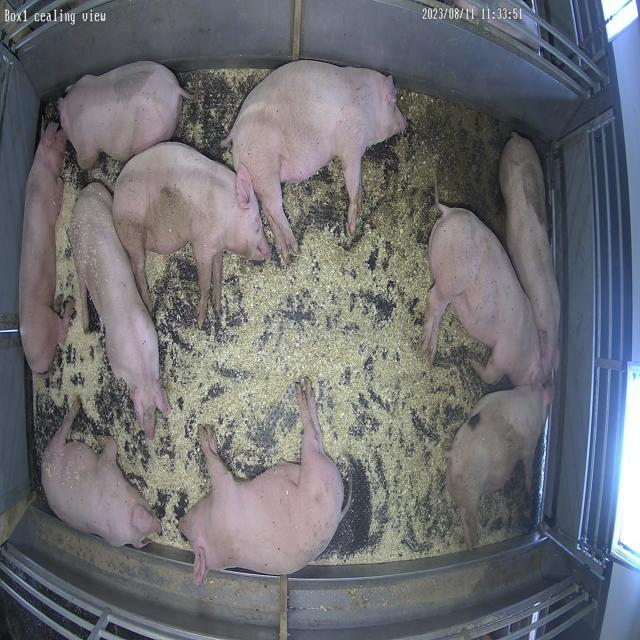Dirt: (399, 89, 512, 244)
Pig: (227, 60, 407, 260), (179, 380, 344, 586), (113, 142, 271, 328), (71, 183, 171, 438), (423, 204, 544, 386), (41, 400, 160, 548), (448, 387, 551, 550), (501, 132, 562, 380), (58, 61, 190, 168), (18, 123, 69, 374)
